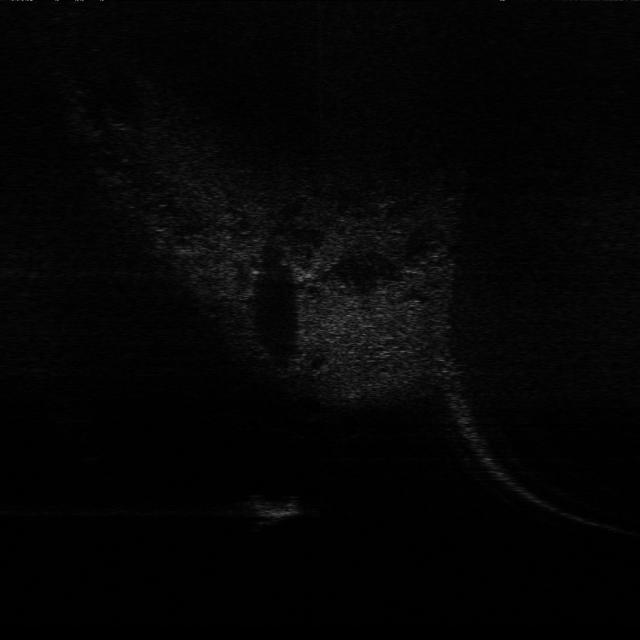square cage: (250, 488, 306, 529)
